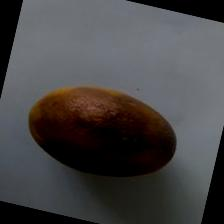Orange Rotten: (10, 57, 202, 200)
